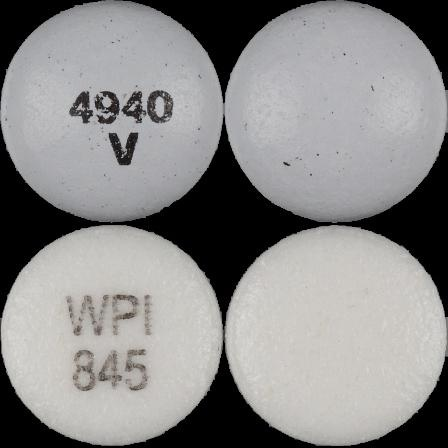53808-0395: (0, 0, 224, 224)
